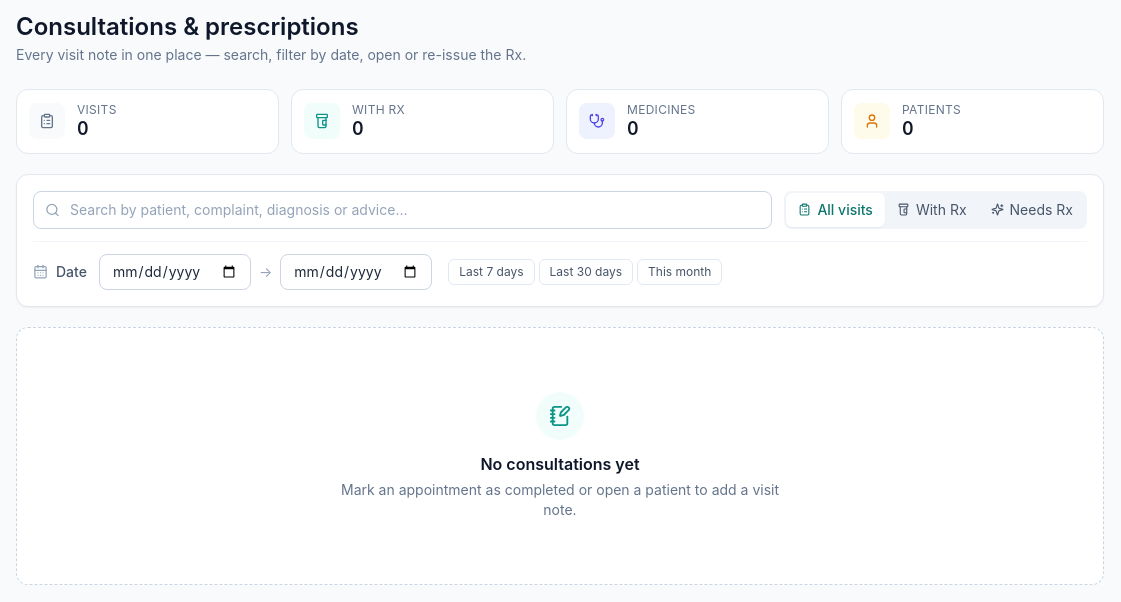
Test case: Consultations page › shows the empty state with filter-aware copy
The image size is (1121, 602).
expect the heading "No consultations yet" is shown: met, box [480, 454, 640, 474]
Note: After filtering, the copy switches to the "no matches" variant.
Type "zzz" into the field with placeholder "Search by patient, complaint, diagnosis or advice…" at [403, 210], box [33, 190, 772, 228]
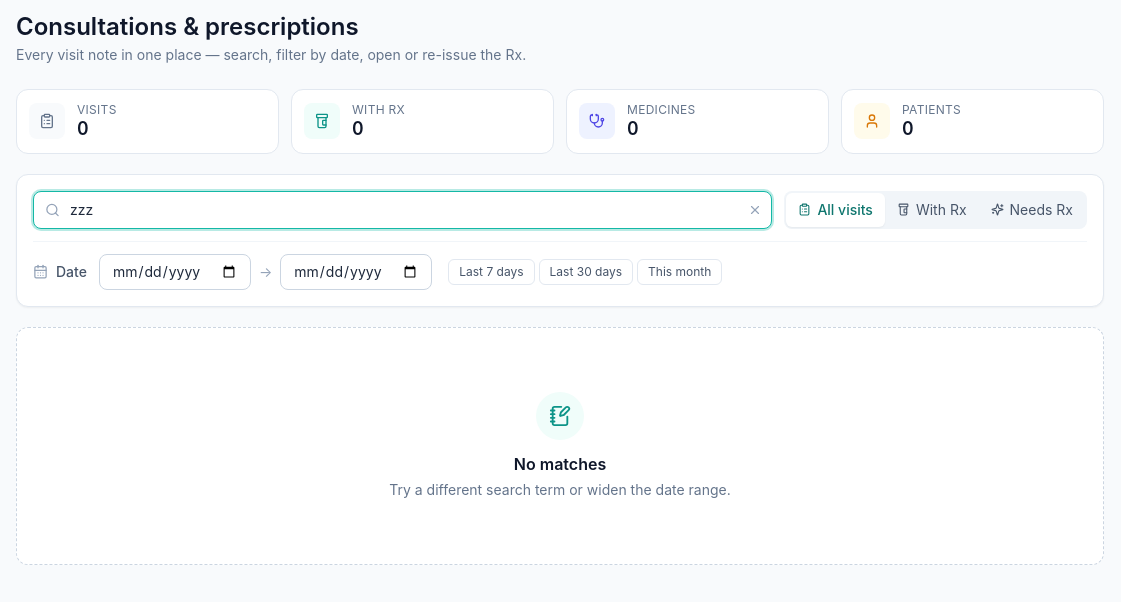
expect the heading "No matches" is shown: met, box [514, 454, 606, 474]
